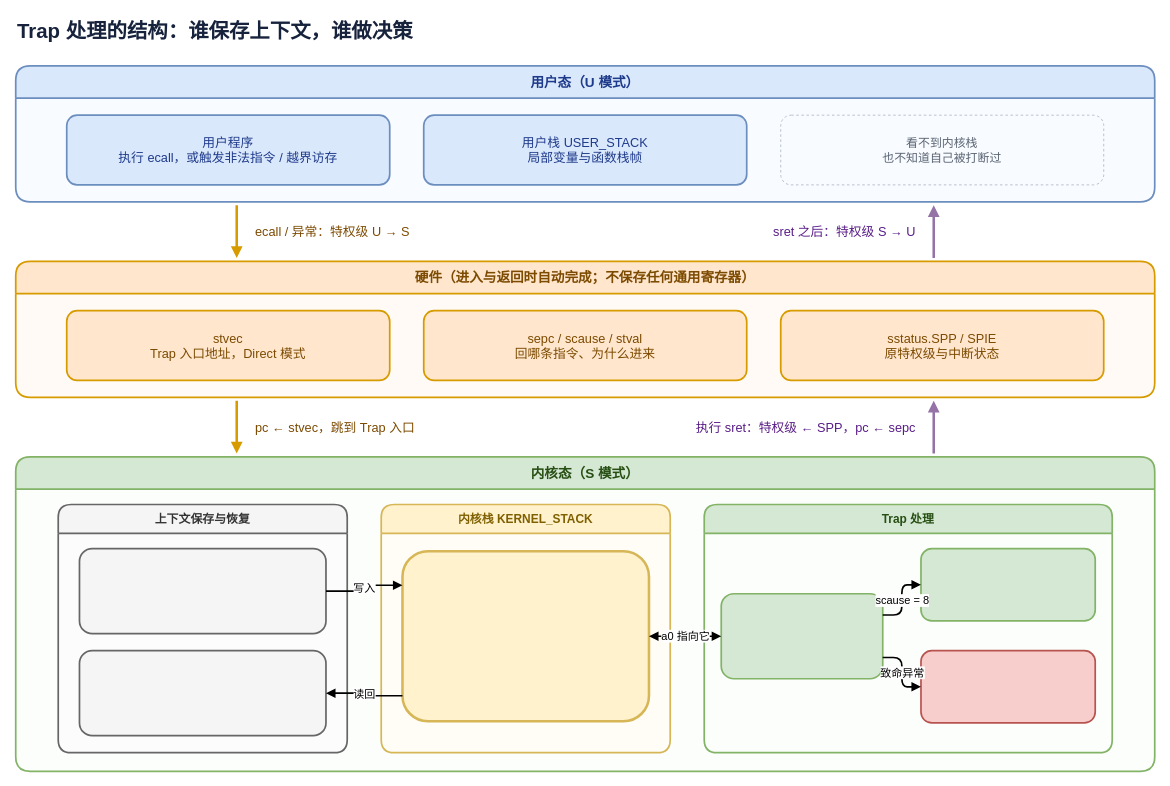
Image size: 1170x786. Some labels were removed from this diagram. The shapes that lost their labels are listed below. From the top down, each one's centre as x and y in pixels, then its label:
At (202,590): "保存上下文 __alltraps".
At (1008,584): "syscall sys_write / sys_exit".
At (525,636): "TrapContext（34 项） x[0] … x[31] sstatus sepc".
At (801,635): "trap_handler 读 scause 分发".
At (202,692): "恢复上下文并返回 __restore + sret".
At (1008,686): "run_next_app 终止，加载下一个".
